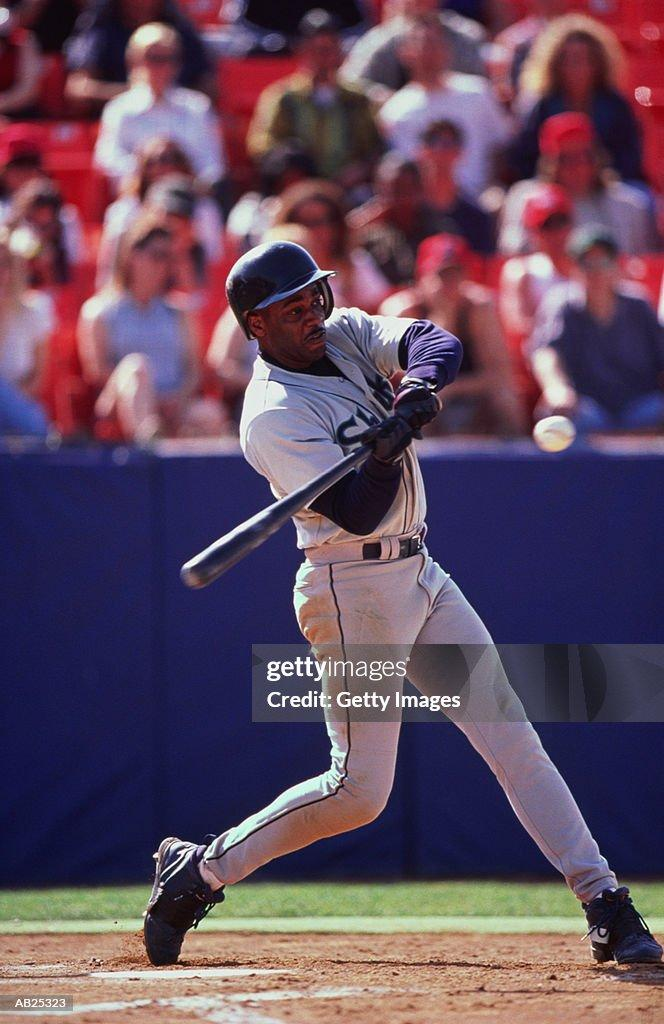baseball: (534, 414, 577, 454)
